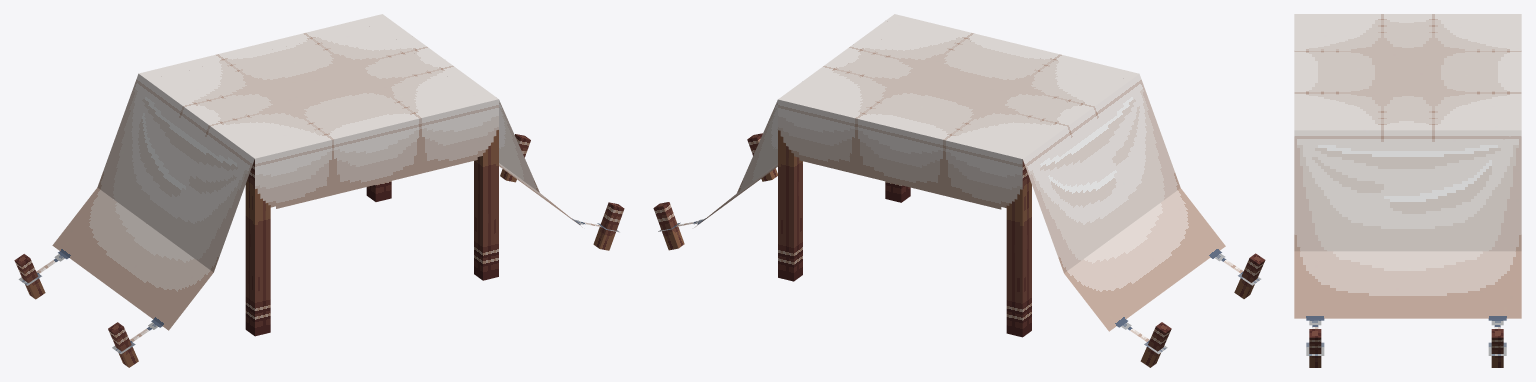
The model's file is tent.gltf.
3 renders of one model, left to right at view 1: azimuth 30°, elevation 25°; view 2: azimuth 150°, elevation 25°; view 3: azimuth 270°, elevation 25°, orthographic. The views are drawn at different scales.
Visible parts, largest first — view 1: cube; view 2: cube; view 3: cube.
Part boxes in pixels (<box>): cube: <box>14,14,624,367</box>; cube: <box>653,14,1265,367</box>; cube: <box>1294,14,1521,367</box>.
Bounding box in the file's own units: 3.01 × 1.05 × 1.19.
Materials: 1 (1 with a texture image).
